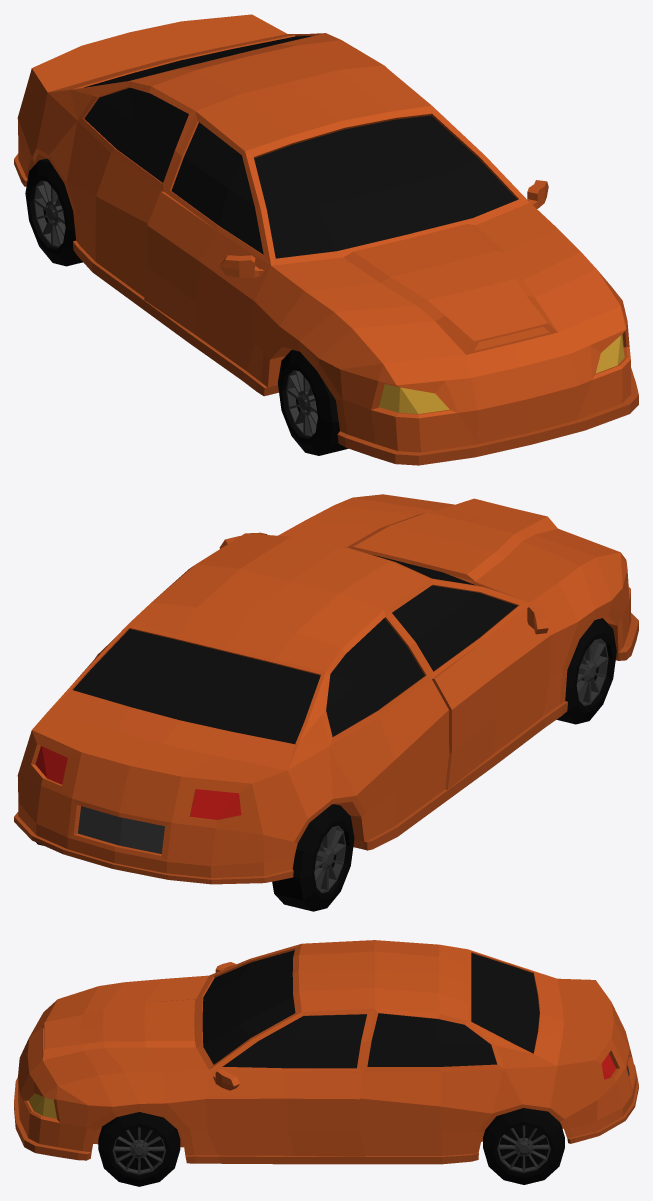
File: car_SportsCar.glb
3 views of the same model, one above another, from view 1: azimuth 30°, elevation 25°; view 2: azimuth 150°, elevation 25°; view 3: azimuth 270°, elevation 25° (orthographic). The views are drawn at different scales.
Parts seen in each view (by area): view 1: SportsCar, SportsCar_FrontRightWheel, SportsCar_BackWheels; view 2: SportsCar, SportsCar_BackWheels, SportsCar_FrontRightWheel; view 3: SportsCar, SportsCar_BackWheels, SportsCar_FrontLeftWheel.
Boxes of the visible parts, x1,y1,x2,y2 form: SportsCar: [14, 14, 638, 465]; SportsCar_FrontRightWheel: [278, 349, 348, 455]; SportsCar_BackWheels: [25, 158, 82, 266]; SportsCar: [14, 494, 638, 884]; SportsCar_BackWheels: [36, 804, 354, 911]; SportsCar_FrontRightWheel: [556, 618, 616, 724]; SportsCar: [14, 940, 638, 1164]; SportsCar_BackWheels: [483, 1108, 564, 1184]; SportsCar_FrontLeftWheel: [98, 1112, 180, 1186].
Bounding box in the file's own units: 2.05 × 1.31 × 4.5.
1 material, 1 textured.
